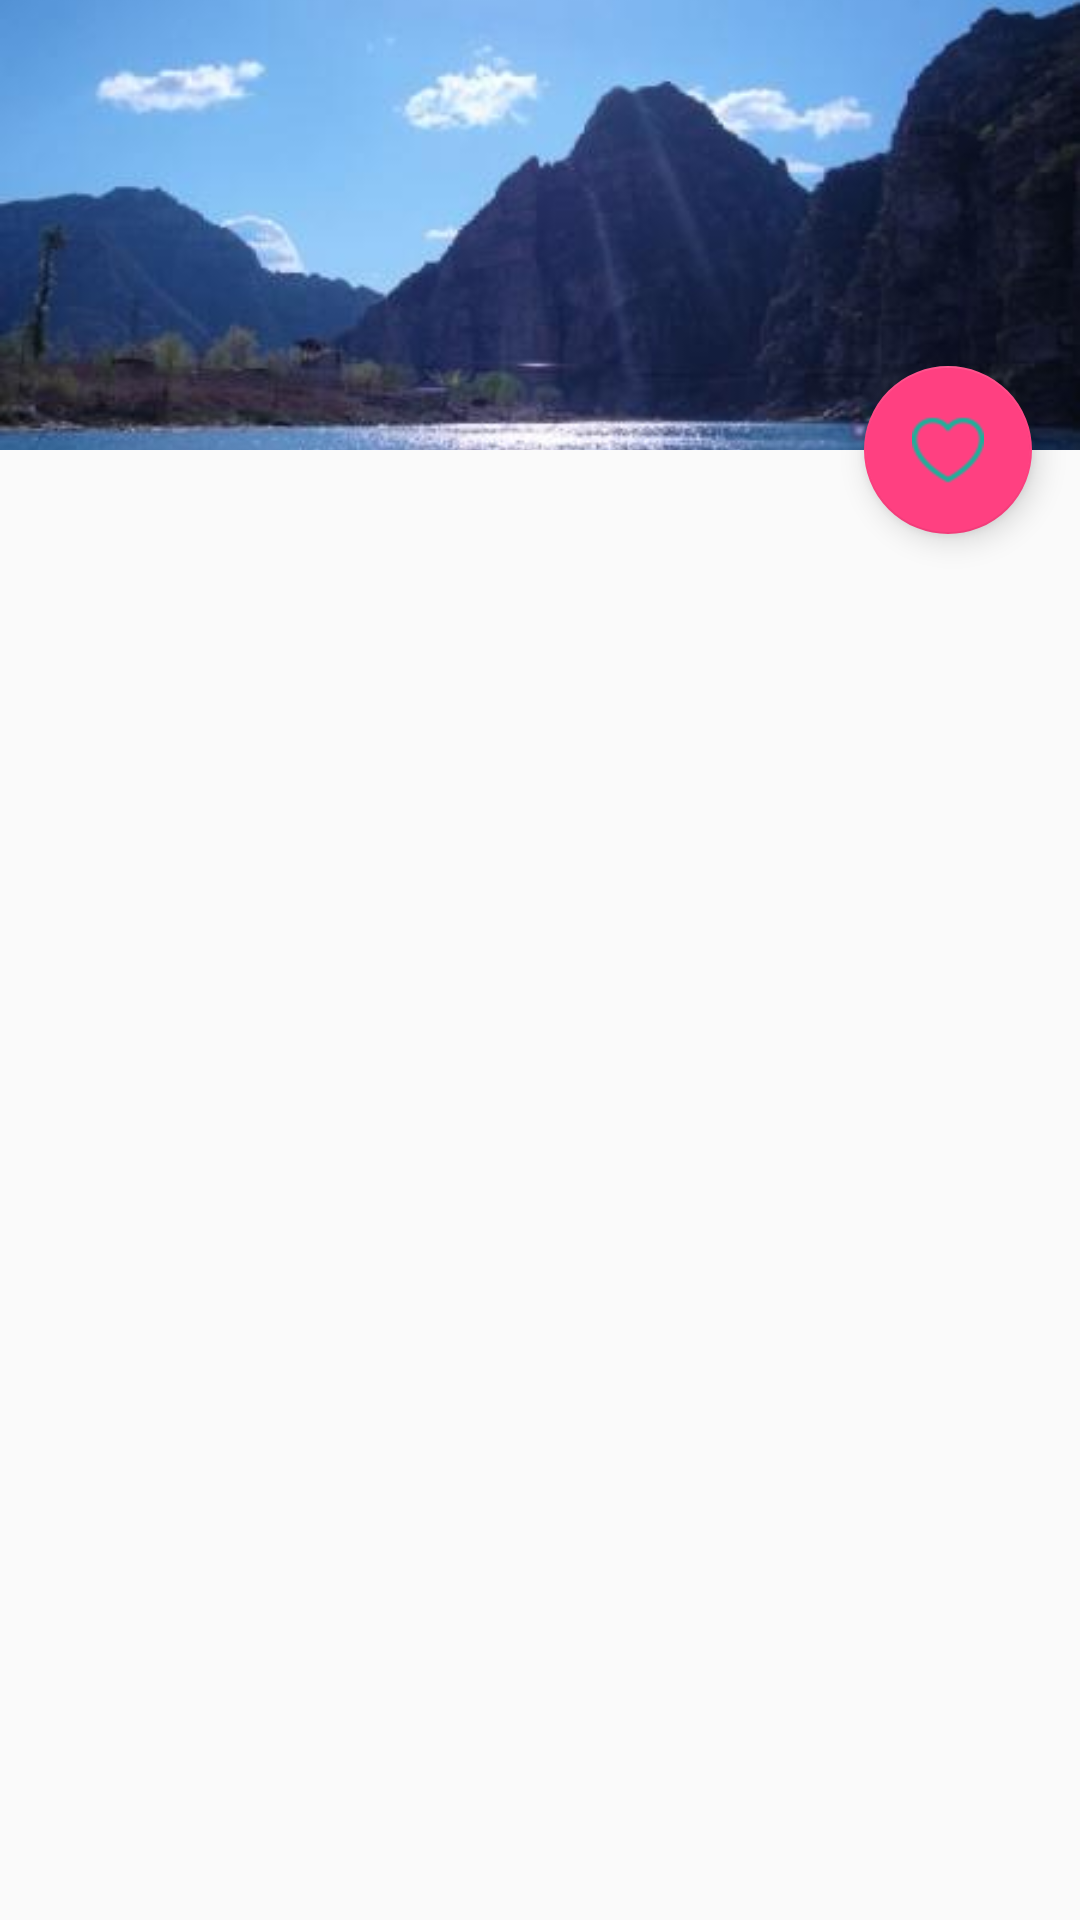

Point at icon controls on the screen. Image size 1080w x 1920h, points as point (x, y).
nolike: point (948, 450)
